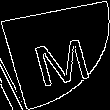M_N: (21, 24, 89, 86)
